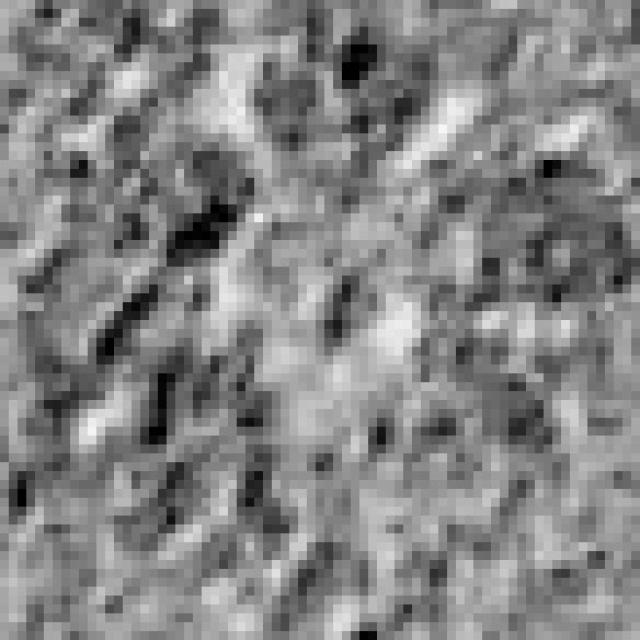inner: (219, 209, 464, 438)
lobe: (22, 256, 216, 490), (158, 445, 378, 633), (355, 373, 574, 555), (251, 7, 439, 212), (55, 87, 265, 267), (471, 150, 639, 307)
outer: (0, 0, 640, 640)
